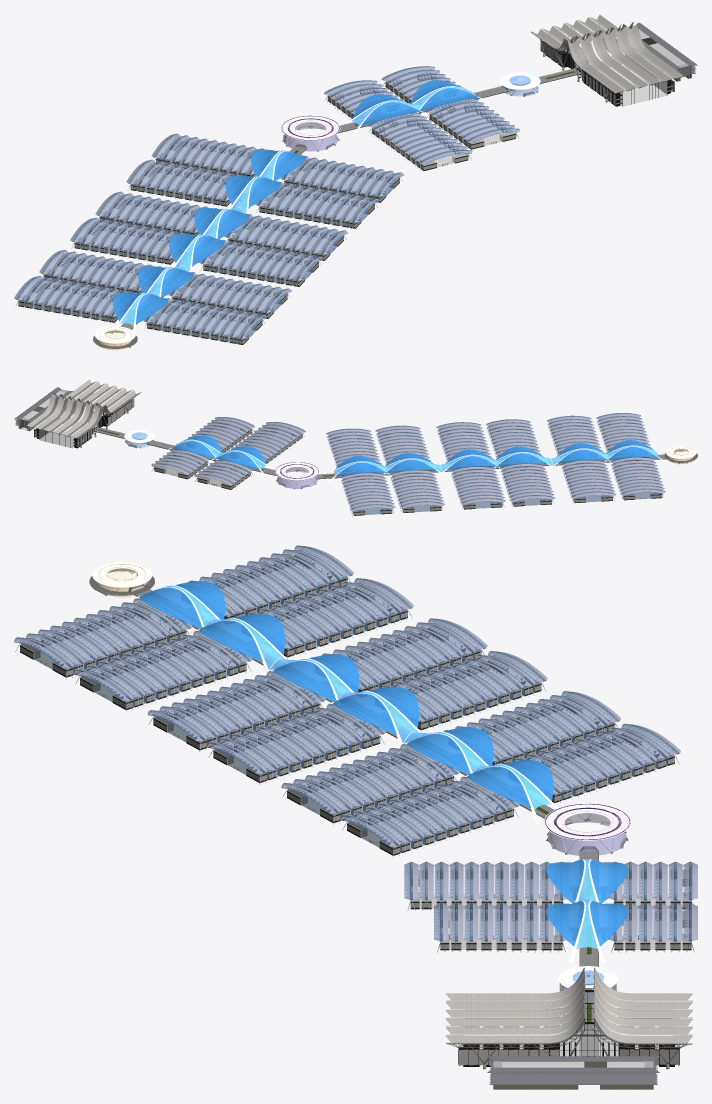
3 views of the same model, one above another, from view 1: azimuth 30°, elevation 25°; view 2: azimuth 150°, elevation 25°; view 3: azimuth 270°, elevation 25° (orthographic). The views are drawn at different scales.
Visible parts, largest first — view 1: Main_Building_HuiYiZhongXin_Roof_low2, 10号馆, 12号馆, 11号馆, 13号馆, 14, 15号馆, 16号馆, 5号馆, 4号馆, 2号馆, 1号馆 (+35 smaller); view 2: Main_Building_HuiYiZhongXin_Roof_low2, 1号馆, 3号馆, 4号馆, 2号馆, 6号馆, 5号馆, 13号馆, 14, 10号馆, 11号馆, 12号馆 (+31 smaller); view 3: Main_Building_HuiYiZhongXin_Roof_low2, 16号馆, 14, 13号馆, 15号馆, 12号馆, 11号馆, 10号馆, 1号馆, 3号馆, 6号馆, 4号馆 (+38 smaller).
Boxes of the visible parts, x1,y1,x2,y2 form: Main_Building_HuiYiZhongXin_Roof_low2: (531,14,683,94); 10号馆: (368,112,472,164); 12号馆: (255,182,378,222); 11号馆: (280,156,403,196); 13号馆: (224,214,347,254); 14: (199,240,322,280); 15号馆: (168,272,291,312); 16号馆: (143,298,266,338); 5号馆: (126,159,247,200); 4号馆: (95,191,216,232); 2号馆: (39,250,161,290); 1号馆: (14,276,136,316); Main_Building_HuiYiZhongXin_Roof_low2: (26,379,141,438); 1号馆: (610,457,665,495); 3号馆: (500,463,555,502); 4号馆: (450,466,505,504); 2号馆: (561,460,616,498); 6号馆: (340,473,395,511); 5号馆: (389,470,444,508); 13号馆: (436,422,491,460); 14: (486,419,541,457); 10号馆: (227,422,305,460); 11号馆: (326,428,381,466); 12号馆: (375,425,430,463); Main_Building_HuiYiZhongXin_Roof_low2: (445,967,692,1047); 16号馆: (14,598,192,668); 14: (147,671,325,740); 13号馆: (207,703,385,773); 15号馆: (74,631,252,700); 12号馆: (281,744,459,813); 11号馆: (341,776,519,846); 10号馆: (404,861,566,900); 1号馆: (188,545,353,615); 3号馆: (311,618,487,688); 6号馆: (504,723,680,793); 4号馆: (371,651,547,720).
Bounding box in the file's own units: 1516 × 73.5 × 819.
Materials: 125 (40 with a texture image).
